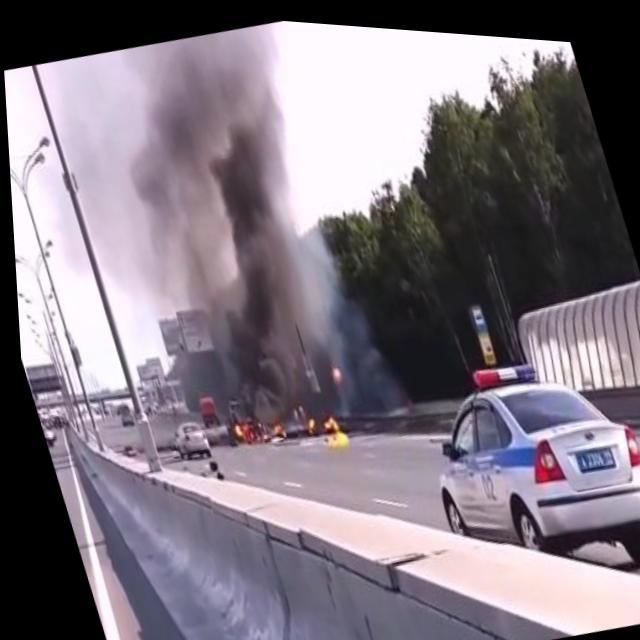fire: (223, 402, 286, 448), (299, 401, 346, 447), (322, 354, 340, 380)
